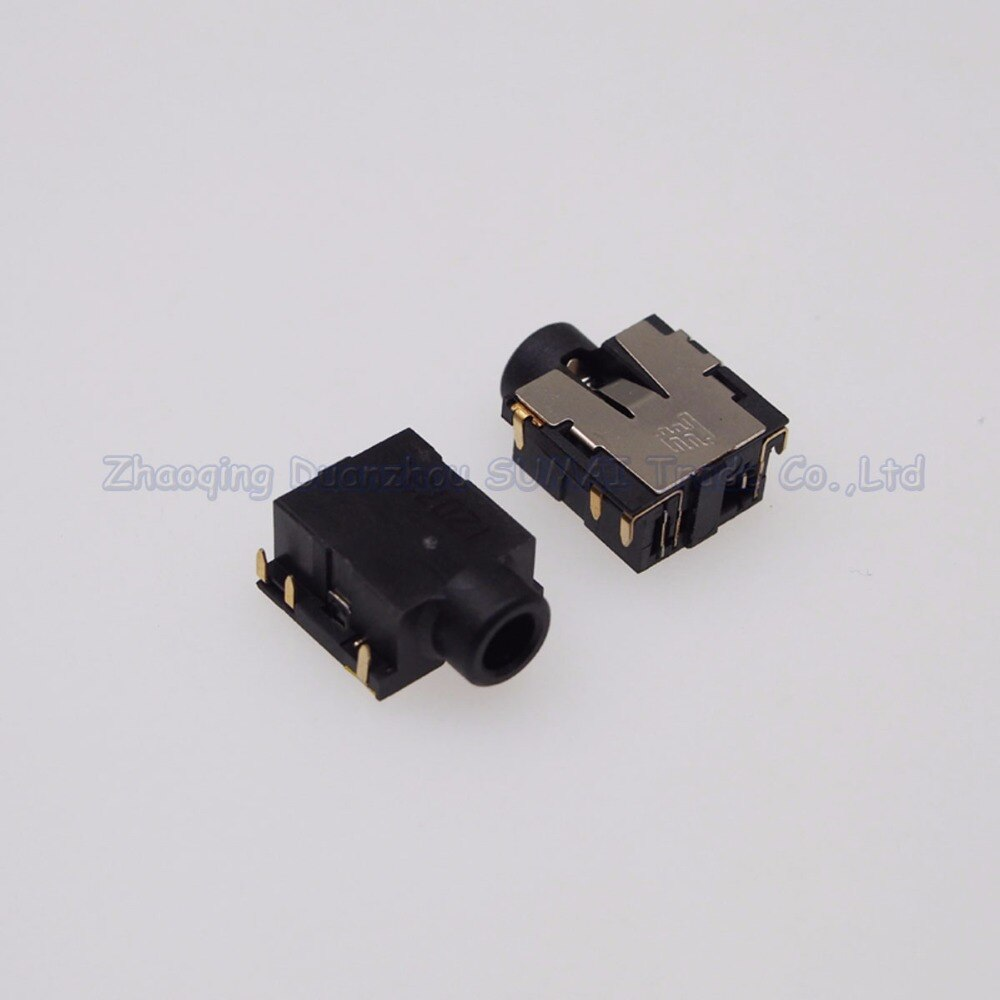aud: (242, 428, 558, 736), (487, 311, 810, 574)
